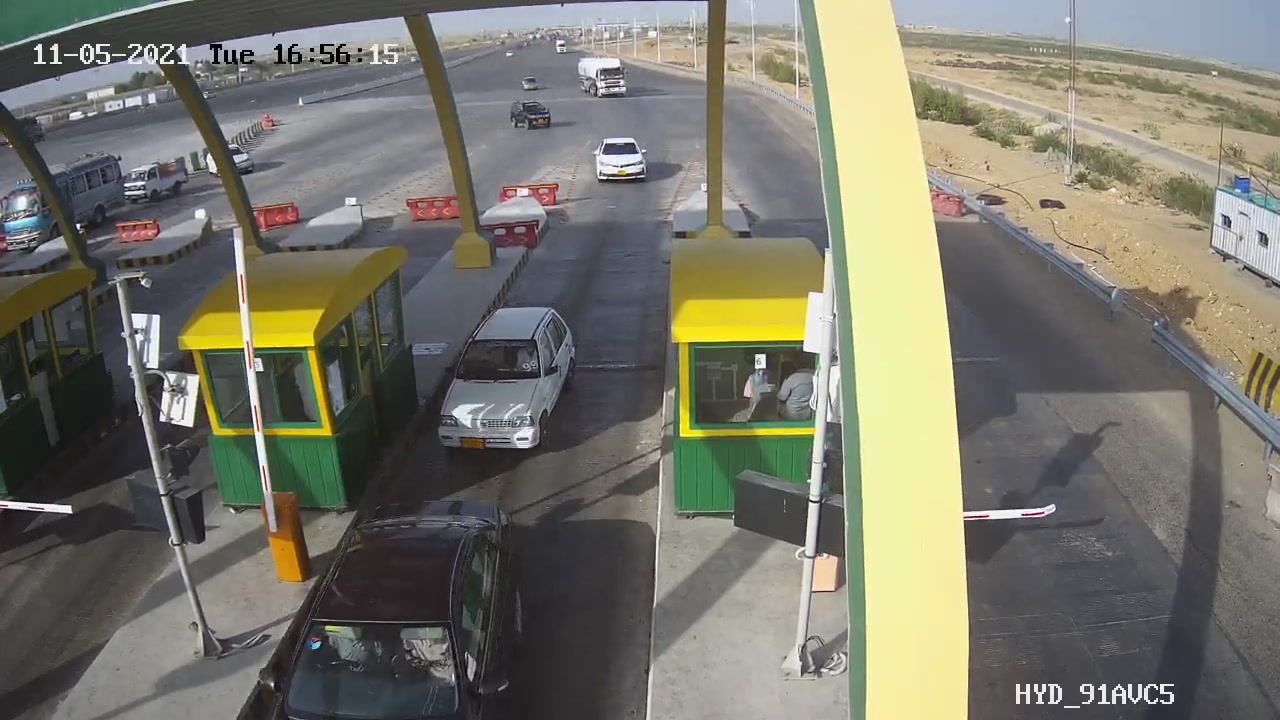F1: (424, 294, 588, 467)
